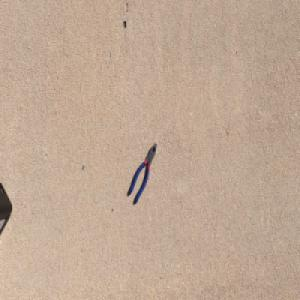Pliers: (127, 141, 157, 204)
